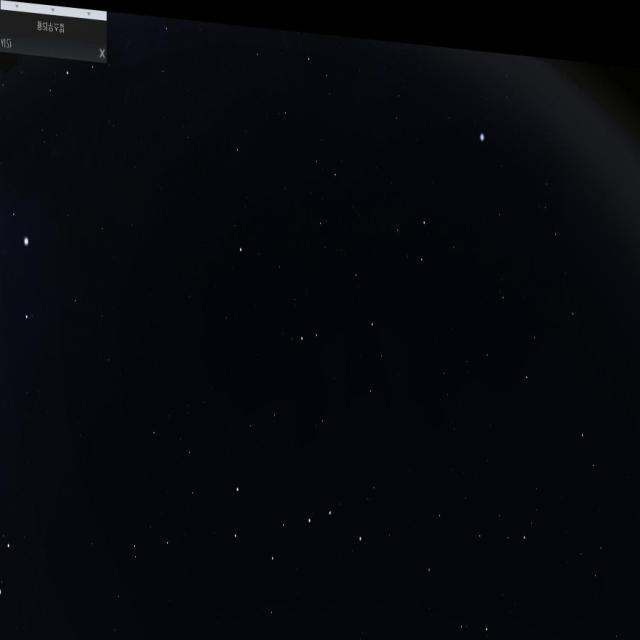ursa_major: (226, 460, 364, 582)
